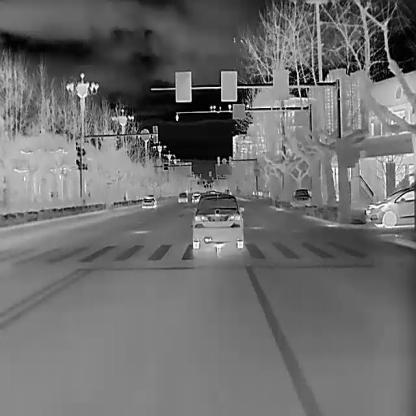car: (193, 195, 243, 249), (365, 186, 415, 229), (293, 188, 311, 206), (141, 194, 156, 209), (178, 192, 188, 202), (191, 193, 200, 203), (209, 190, 215, 197)
